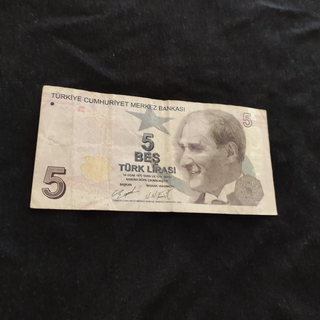5TLFront: (29, 84, 278, 216)
